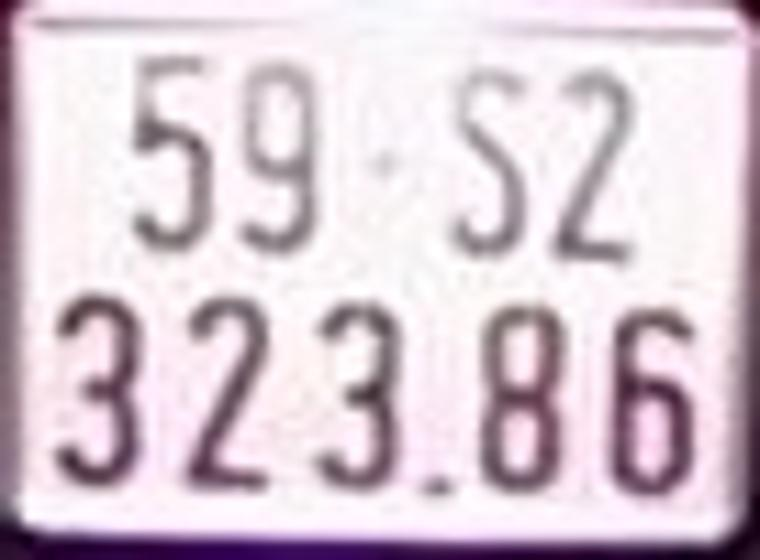.: (418, 458, 463, 511)
2: (175, 290, 276, 497), (554, 65, 638, 274)
3: (32, 276, 158, 503), (308, 291, 403, 504)
5: (116, 29, 218, 256)
6: (599, 300, 710, 500)
8: (466, 297, 567, 499)
9: (237, 56, 324, 258)
S: (437, 62, 536, 272)
